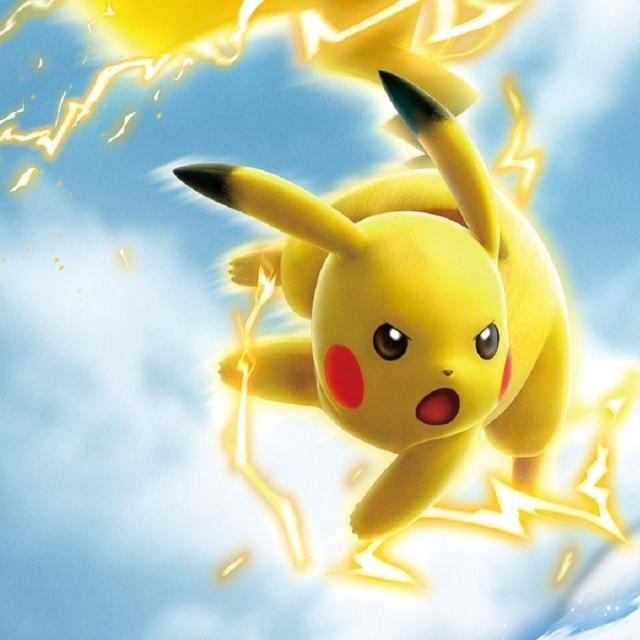pikachu: (175, 3, 573, 540)
